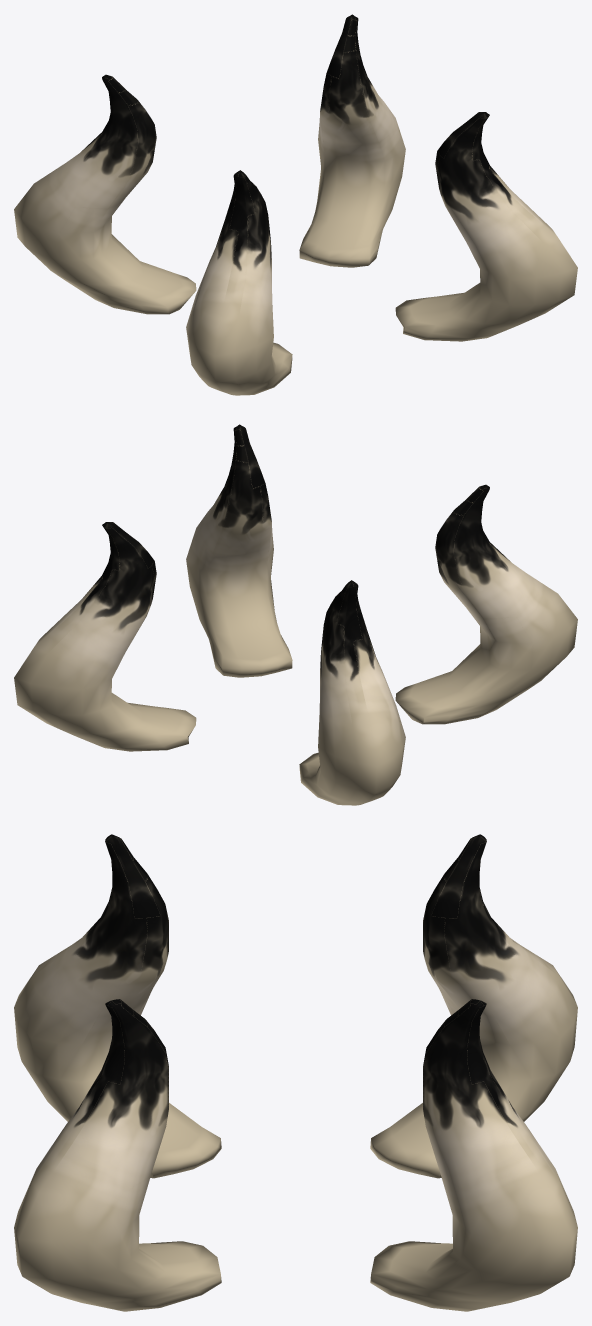
Rendered from Brazier Horns.fbx.
3 renders of one model, top to bottom at view 1: azimuth 30°, elevation 25°; view 2: azimuth 150°, elevation 25°; view 3: azimuth 270°, elevation 25°, orthographic. The views are drawn at different scales.
Visible parts, largest first — view 1: Hestia Torch Thing.002; view 2: Hestia Torch Thing.002; view 3: Hestia Torch Thing.002.
Part boxes in pixels (x1=…): Hestia Torch Thing.002: x1=14, y1=14, x2=577, y2=395; Hestia Torch Thing.002: x1=14, y1=424, x2=577, y2=805; Hestia Torch Thing.002: x1=14, y1=834, x2=577, y2=1311.
Bounding box in the file's own units: 124 × 69.93 × 119.
